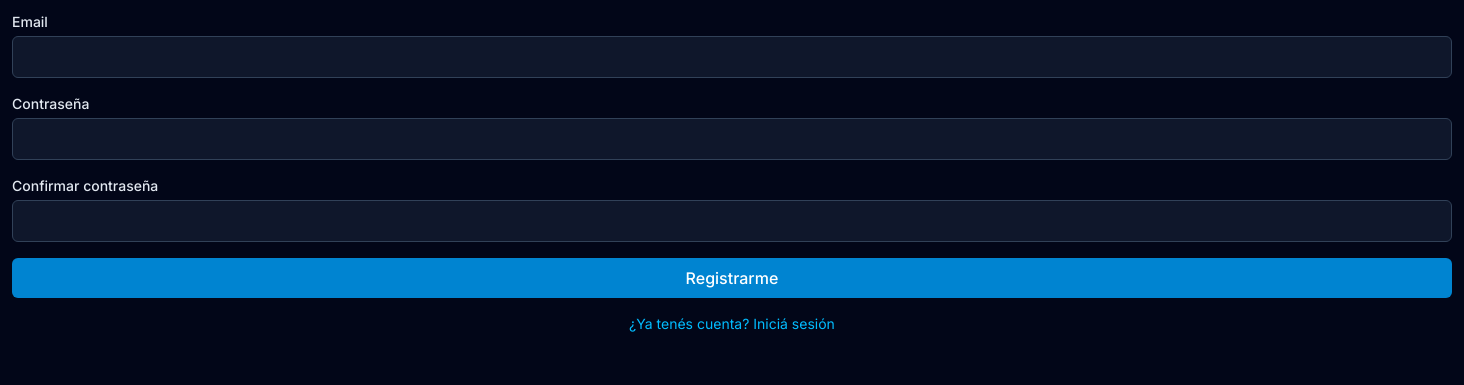
it: RegisterForm: comportamiento › un 409 muestra "Este email ya está registrado." visible en el formulario
Type "alice@example.com" into the field labelled "Email".
click(732, 57); type("alice@example.com")  # box left=12, top=36, right=1452, bottom=78
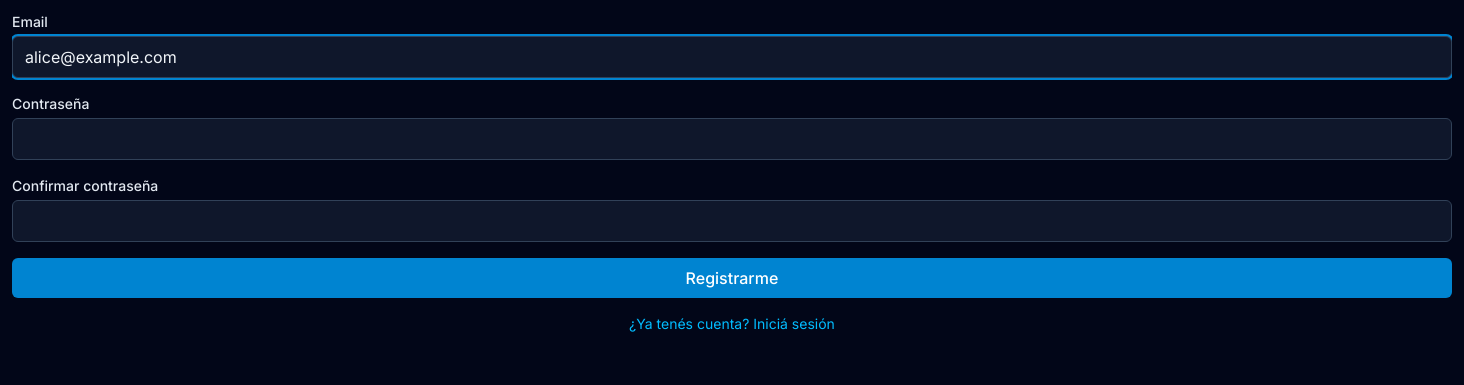
Type "hunter22" into the password field labelled "Contraseña".
click(732, 139); type("hunter22")  # box left=12, top=118, right=1452, bottom=160
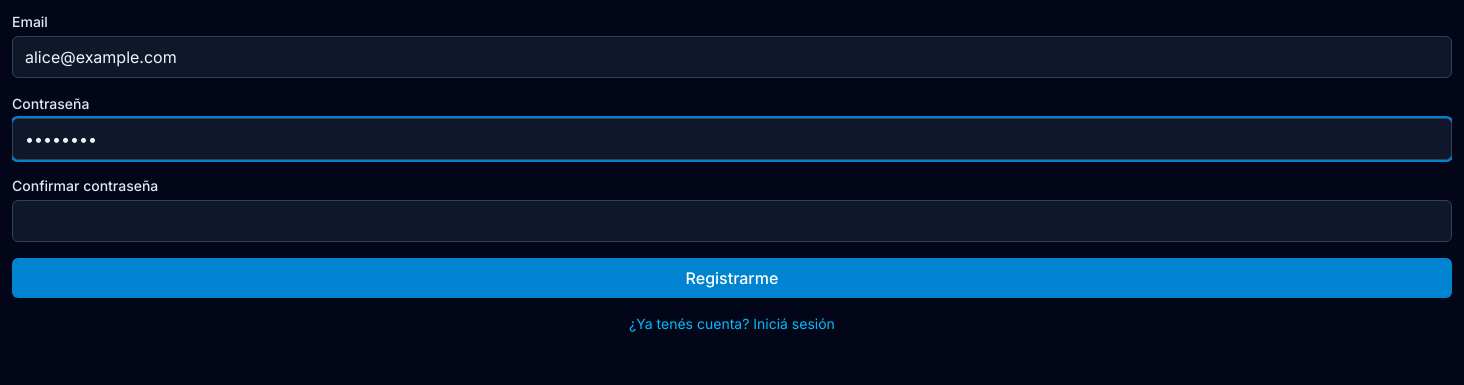
Type "hunter22" into the password field labelled "Confirmar contraseña".
click(732, 221); type("hunter22")  # box left=12, top=200, right=1452, bottom=242
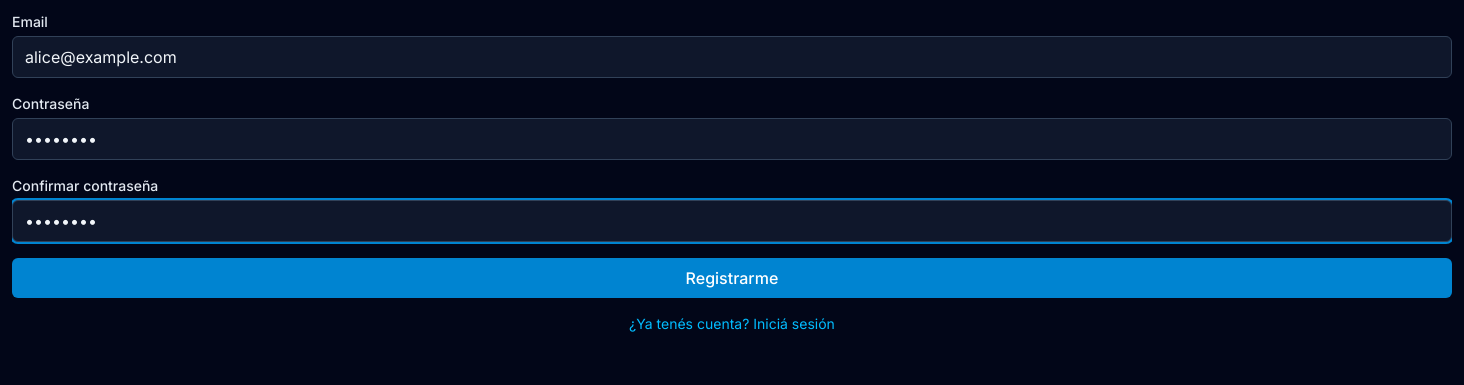
Click the button "Registrarme".
click(732, 278)  # box left=12, top=258, right=1452, bottom=298
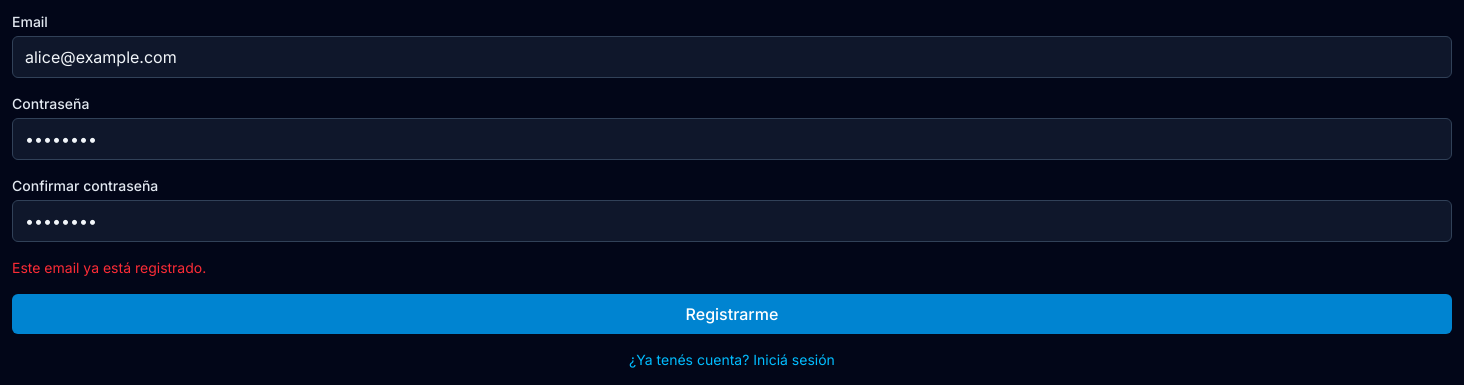
Expected: the text "Este email ya está registrado." is shown, left=12, top=259, right=206, bottom=276
